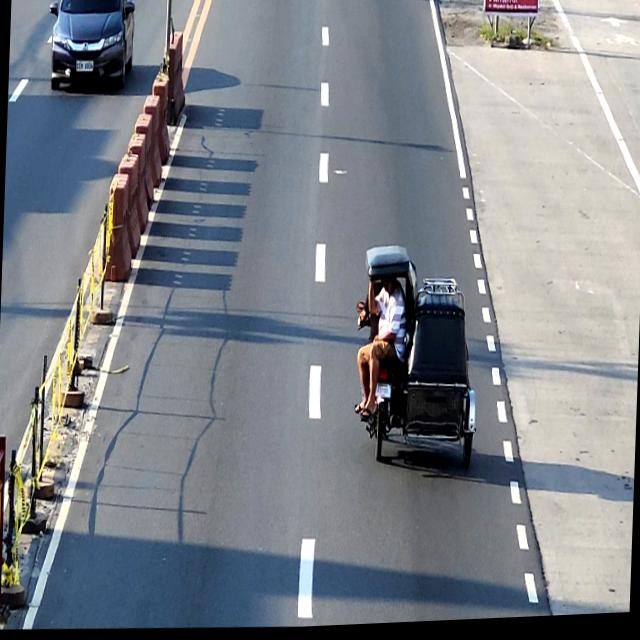Car: (46, 0, 135, 93)
License-Plate: (373, 385, 391, 400), (75, 61, 94, 72)
Tricycle: (358, 243, 480, 473)
